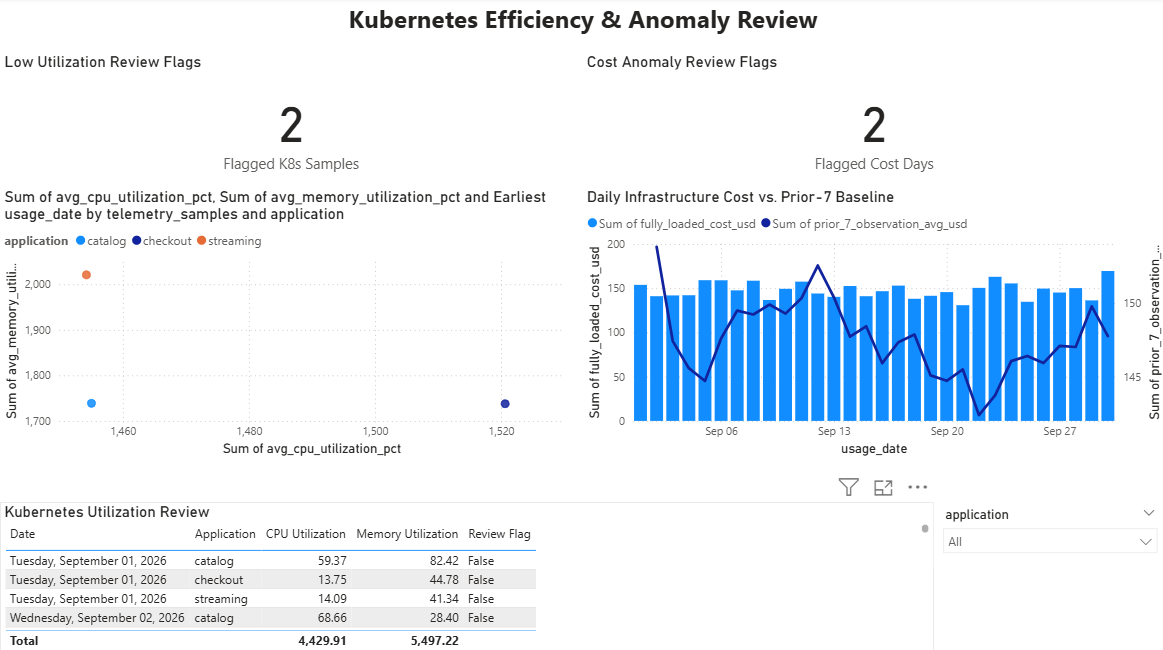

Layout of this report page (visuals, bound fields, positions):
{"tool":"powerbi","page":{"name":"Kubernetes Efficiency & Anomaly Review","canvas":[1280,720],"ordinal":2},"visuals":[{"type":"card","title":"Low Utilization Review Flags","fields":{"Values":["dim_date.Flagged K8s Samples"]},"box":[0,60.4,639.5,148.2],"z":0},{"type":"card","title":"Cost Anomaly Review Flags","fields":{"Values":["dim_date.Flagged Cost Days"]},"box":[639.5,60.4,640.8,148.2],"z":1},{"type":"scatterChart","fields":{"Series":["dim_application.application"],"X":["Sum(fact_k8s_daily.avg_cpu_utilization_pct)"],"Y":["Sum(fact_k8s_daily.avg_memory_utilization_pct)"],"Category":["fact_k8s_daily.telemetry_samples"]},"box":[0,208.6,639.5,300.5],"z":2},{"type":"tableEx","title":"Kubernetes Utilization Review","fields":{"Values":["fact_k8s_daily.usage_date","fact_k8s_daily.application","Sum(fact_k8s_daily.avg_cpu_utilization_pct)","Sum(fact_k8s_daily.avg_memory_utilization_pct)","fact_k8s_daily.low_utilization_review_flag"]},"box":[0,554.4,1025,166],"z":3},{"type":"lineClusteredColumnComboChart","title":"Daily Infrastructure Cost vs. Prior-7 Baseline","fields":{"Category":["dim_date.usage_date"],"Y":["Sum(fact_anomalies_daily.fully_loaded_cost_usd)"],"Y2":["Sum(fact_anomalies_daily.prior_7_observation_avg_usd)"]},"box":[639.5,208.6,640.8,300.5],"z":4},{"type":"slicer","fields":{"Values":["dim_application.application"]},"box":[1025,554.4,255.2,72.7],"z":5},{"type":"textbox","box":[0,0,1280.3,60.4],"z":6}]}

Visuals, with their boxes in screenshot pixels (x1, y1, x2, y2), scaled from the page's 1280x720 canvas onto the 1163x650 screenshot:
"Low Utilization Review Flags" card: crop(0, 55, 581, 188)
"Cost Anomaly Review Flags" card: crop(581, 55, 1162, 188)
scatterChart - dim_application.application x Sum(fact_k8s_daily.avg_cpu_utilization_pct): crop(0, 188, 581, 460)
"Kubernetes Utilization Review" tableEx: crop(0, 500, 931, 649)
"Daily Infrastructure Cost vs. Prior-7 Baseline" lineClusteredColumnComboChart: crop(581, 188, 1162, 460)
slicer - dim_application.application: crop(931, 500, 1162, 566)
textbox: crop(0, 0, 1162, 55)
